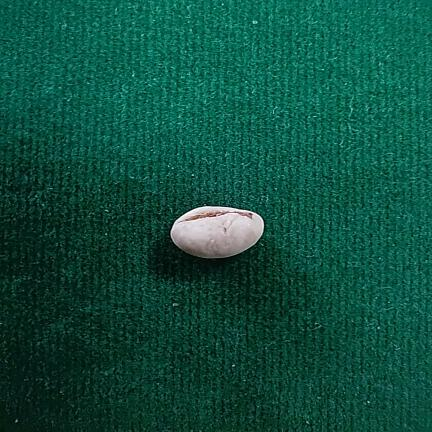immature: (170, 206, 264, 258)
